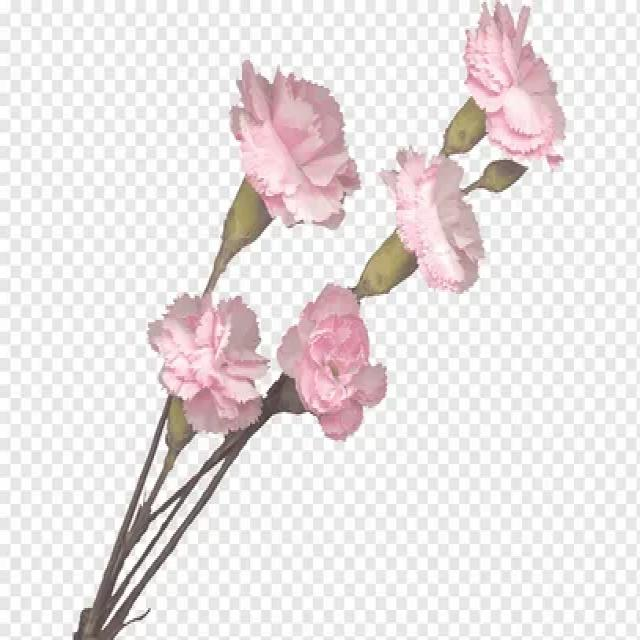carnation: (214, 47, 364, 252), (138, 276, 272, 458), (446, 0, 572, 184)
